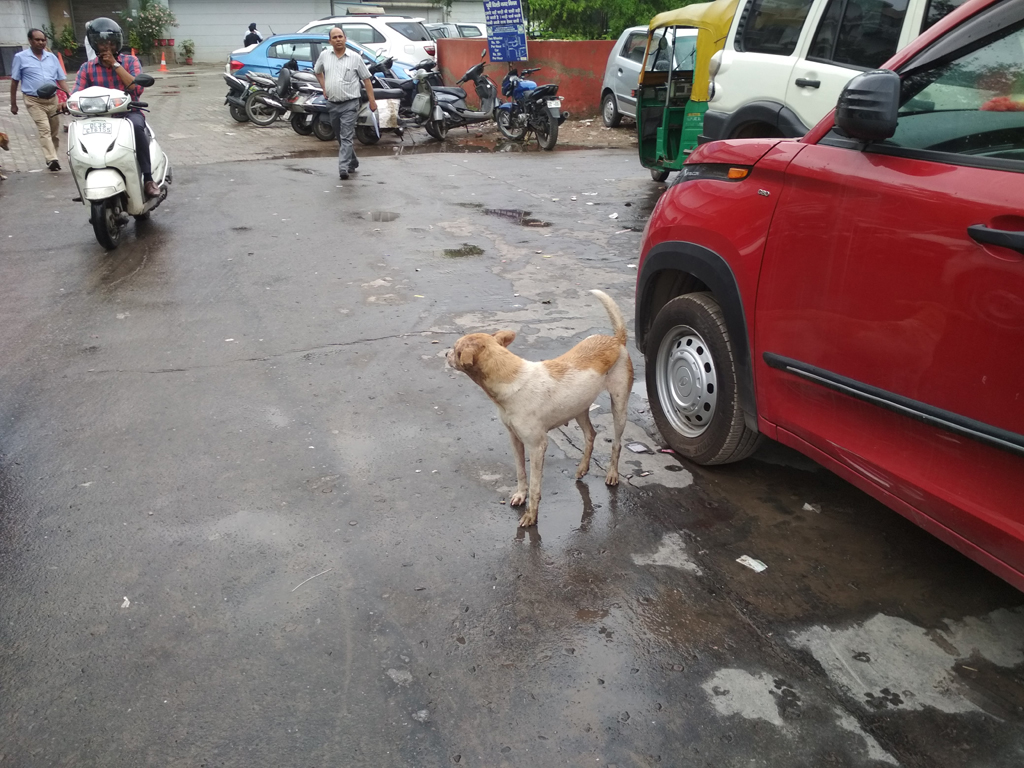dog: (446, 290, 636, 527)
